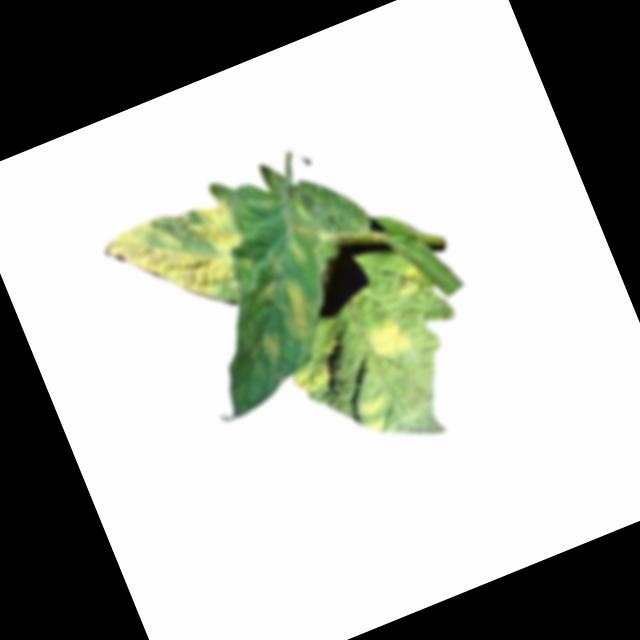Leaf_Mold: (98, 189, 260, 330), (272, 276, 320, 344), (357, 312, 415, 367), (352, 391, 396, 440), (289, 357, 334, 400), (391, 259, 433, 302), (257, 326, 288, 366)
